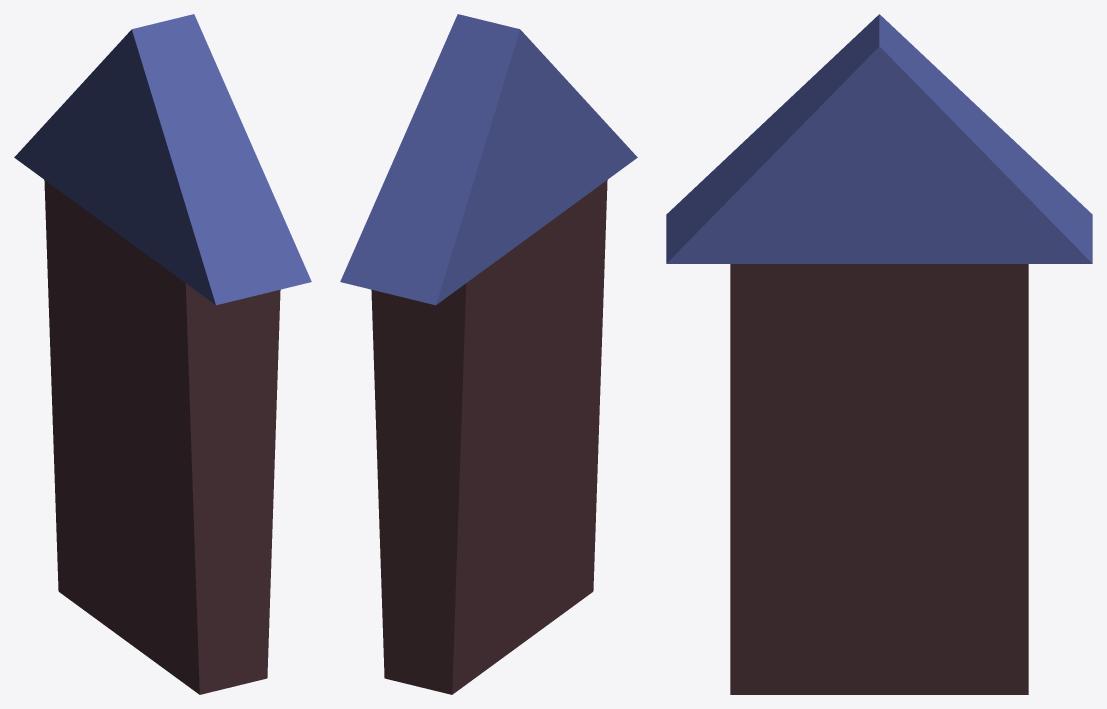
The model's file is HouseTall.gltf.
3 renders of one model, left to right at view 1: azimuth 30°, elevation 25°; view 2: azimuth 150°, elevation 25°; view 3: azimuth 270°, elevation 25°, orthographic. The views are drawn at different scales.
Visible parts, largest first — view 1: Cube; view 2: Cube; view 3: Cube.
Boxes of the visible parts, x1,y1,x2,y2 form: Cube: (14, 14, 311, 694); Cube: (340, 14, 637, 694); Cube: (666, 14, 1092, 694).
Size of the model in its own units: 0.7832 by 4.79 by 2.86.
